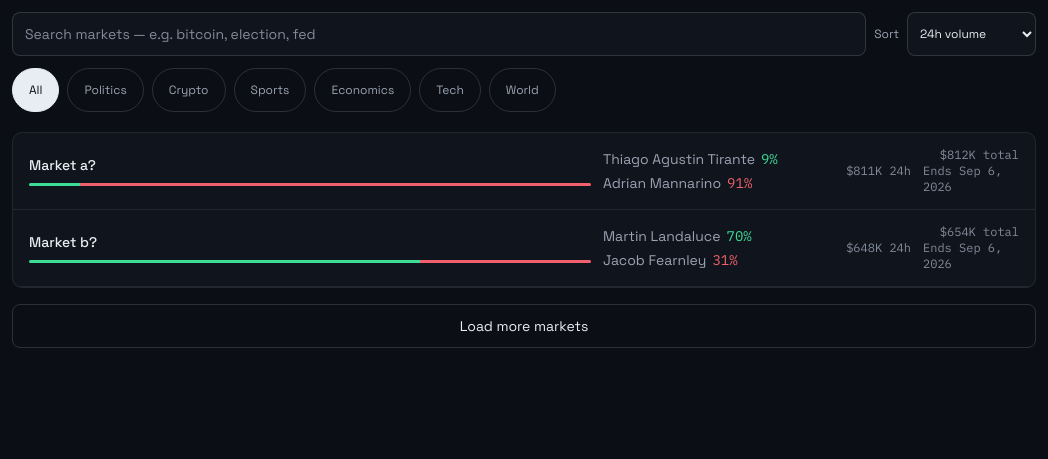
Test: Load more (UX-1) › appends the next page without dropping what is on screen
Check: the heading "Market a?" is shown, box [29,156,96,174]
Click the button "Load more markets".
click(524, 326)  # box [12,304,1036,348]
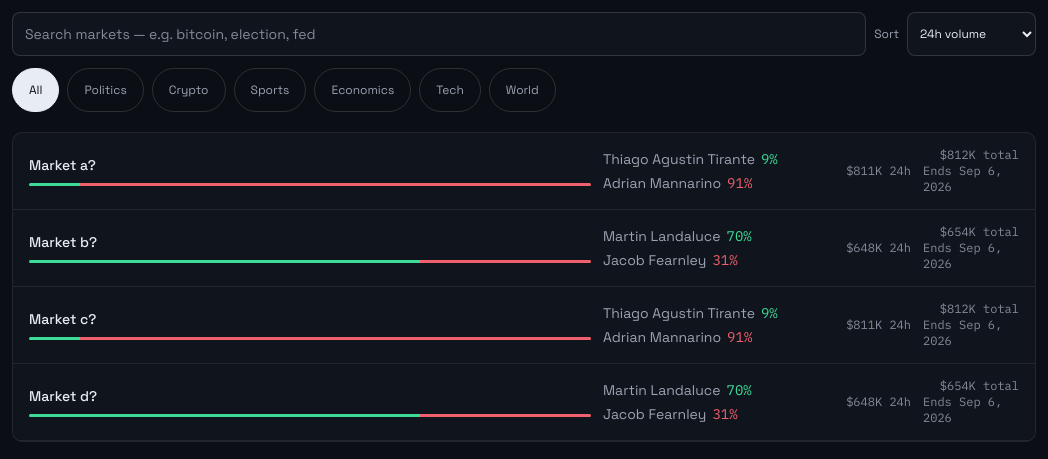
Check: the heading "Market a?" is shown, box [29,156,96,174]
Check: the heading "Market c?" is shown, box [29,310,96,328]
Check: the heading "Market d?" is shown, box [29,387,97,405]
